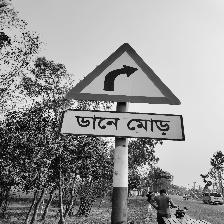Right-turn: (62, 43, 184, 142)
